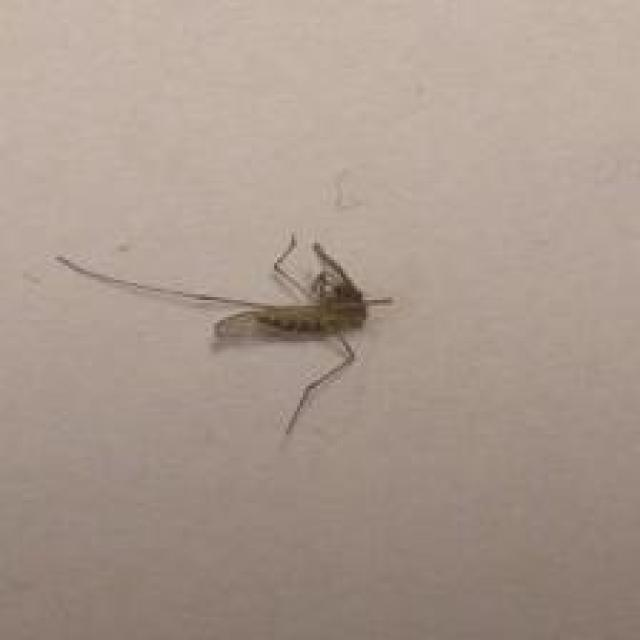Culex: (54, 232, 394, 437)
